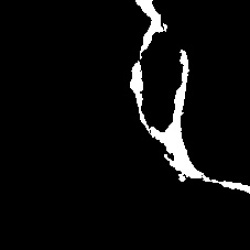crack: (128, 1, 246, 193)
